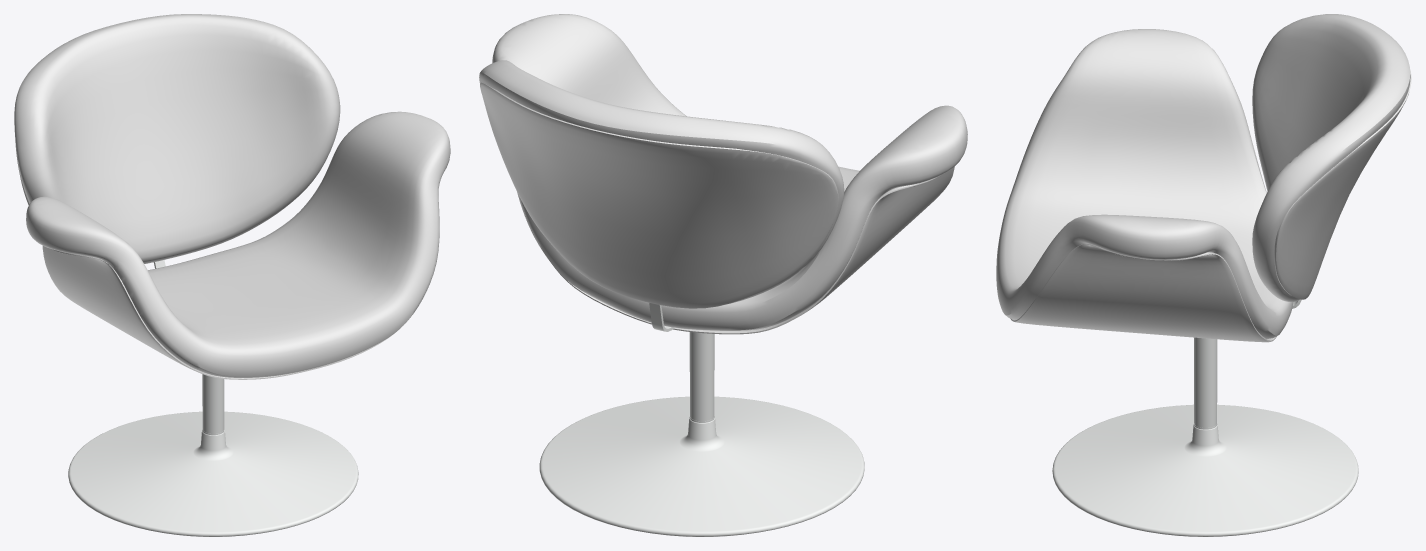
Rendered from skc2299031.glb.
3 renders of one model, left to right at view 1: azimuth 30°, elevation 25°; view 2: azimuth 150°, elevation 25°; view 3: azimuth 270°, elevation 25°, orthographic. The views are drawn at different scales.
Visible parts, largest first — view 1: Chair.002_0; view 2: Chair.002_0; view 3: Chair.002_0.
Boxes of the visible parts, x1=… form: Chair.002_0: x1=14, y1=14, x2=450, y2=536; Chair.002_0: x1=479, y1=14, x2=967, y2=536; Chair.002_0: x1=996, y1=14, x2=1411, y2=536.
Size of the model in its own units: 0.8458 by 0.78 by 0.7118.
1 material, 1 textured.
